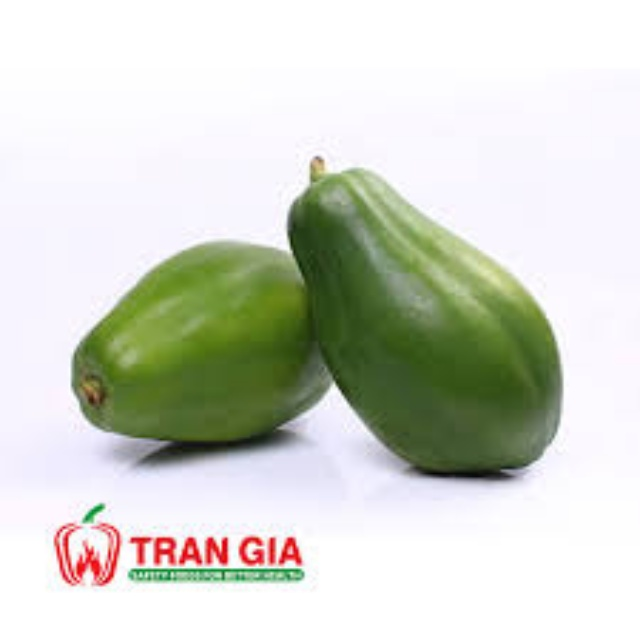du_du: (271, 143, 579, 484), (52, 208, 339, 454)
